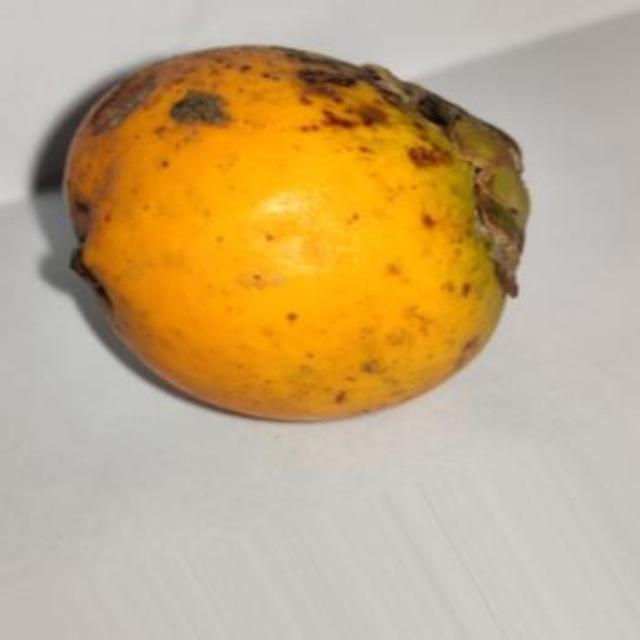good: (64, 46, 528, 424)
